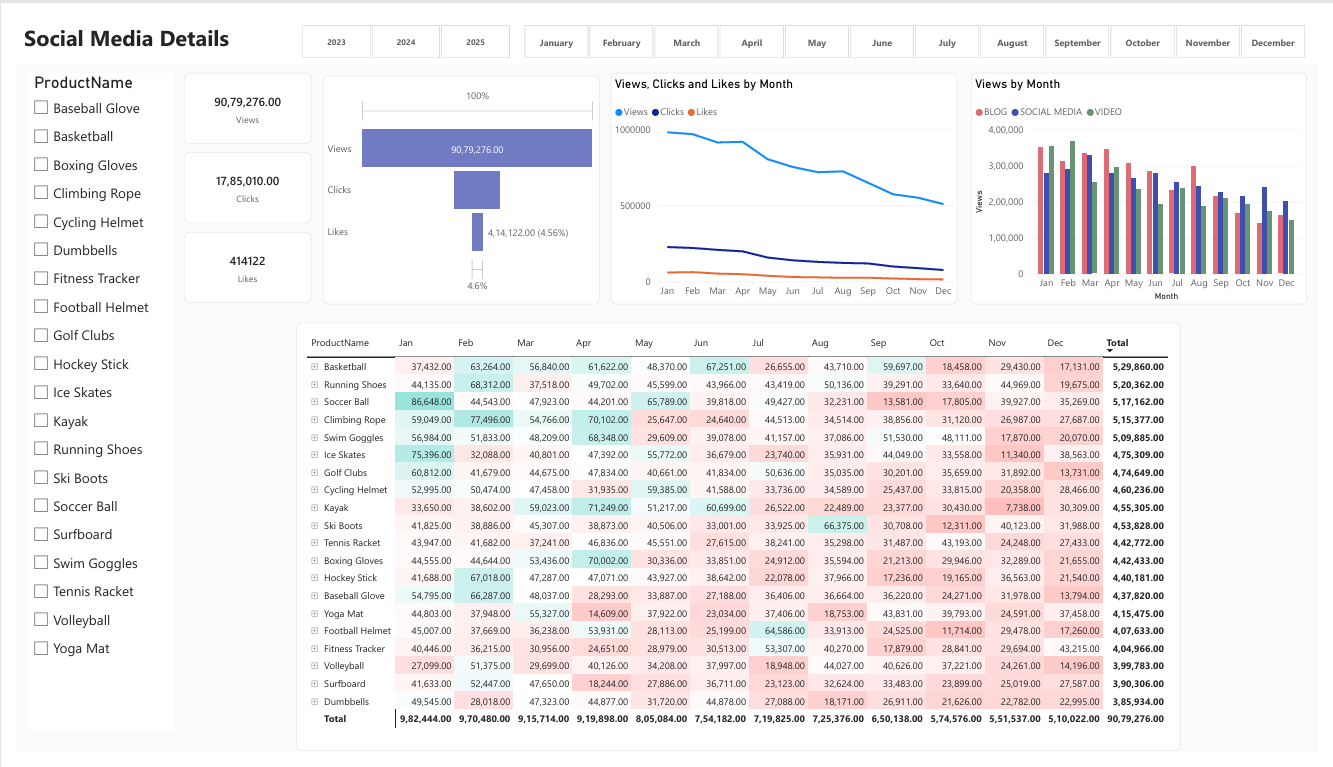

This screenshot's page, from the dashboard's own definition file:
{"tool":"powerbi","page":{"name":"Social Media","canvas":[1920,1080],"ordinal":2},"visuals":[{"type":"textbox","box":[0,0,1920,65],"z":0},{"type":"slicer","fields":{"Values":["dim_products.ProductName"]},"box":[16.7,80,215,970],"z":1000},{"type":"card","fields":{"Values":["_Calculations.Likes"]},"box":[246.3,314.4,188,105],"z":1003},{"type":"lineChart","title":"Views, Clicks and Likes by Month","fields":{"Category":["Calendar.MonthNameShort"],"Y":["_Calculations.Views","_Calculations.Clicks","_Calculations.Likes"]},"box":[876.3,79.4,512,342],"z":1004},{"type":"funnel","fields":{"Y":["_Calculations.Views","_Calculations.Clicks","_Calculations.Likes"]},"box":[452.3,83.4,408,338],"z":1005},{"type":"clusteredColumnChart","title":"Views by Month ","fields":{"Category":["Calendar.MonthNameShort"],"Series":["fact_engagement.ContentType"],"Y":["_Calculations.Views"]},"box":[1408.3,79.4,496,342],"z":1007},{"type":"card","fields":{"Values":["_Calculations.Views"]},"box":[246.3,79.4,188,105],"z":1008},{"type":"card","fields":{"Values":["_Calculations.Clicks"]},"box":[246.3,196.4,188,105],"z":1009},{"type":"pivotTable","fields":{"Columns":["Calendar.MonthNameShort"],"Rows":["dim_products.ProductName","fact_engagement.ContentType"],"Values":["_Calculations.Views"]},"box":[411.7,448.3,1306.7,631.7],"z":1010},{"type":"slicer","fields":{"Values":["Calendar.Date.Variation.Date Hierarchy.Month"]},"box":[728.3,6.7,1192,52],"z":1011},{"type":"slicer","fields":{"Values":["Calendar.Year"]},"box":[400,6.7,346,52],"z":1012}]}

Visuals, with their boxes in screenshot pixels (x1, y1, x2, y2), scaled from the page's 1920x1080 canvas onto the 1333x767 screenshot:
textbox: [x1=0, y1=0, x2=1332, y2=46]
slicer - dim_products.ProductName: [x1=12, y1=57, x2=161, y2=746]
card - _Calculations.Likes: [x1=171, y1=223, x2=302, y2=298]
"Views, Clicks and Likes by Month" lineChart: [x1=608, y1=56, x2=964, y2=299]
funnel - _Calculations.Views x _Calculations.Clicks: [x1=314, y1=59, x2=597, y2=299]
"Views by Month " clusteredColumnChart: [x1=978, y1=56, x2=1322, y2=299]
card - _Calculations.Views: [x1=171, y1=56, x2=302, y2=131]
card - _Calculations.Clicks: [x1=171, y1=139, x2=302, y2=214]
pivotTable - Calendar.MonthNameShort x dim_products.ProductName: [x1=286, y1=318, x2=1193, y2=766]
slicer - Calendar.Date.Variation.Date Hierarchy.Month: [x1=506, y1=5, x2=1332, y2=42]
slicer - Calendar.Year: [x1=278, y1=5, x2=518, y2=42]
